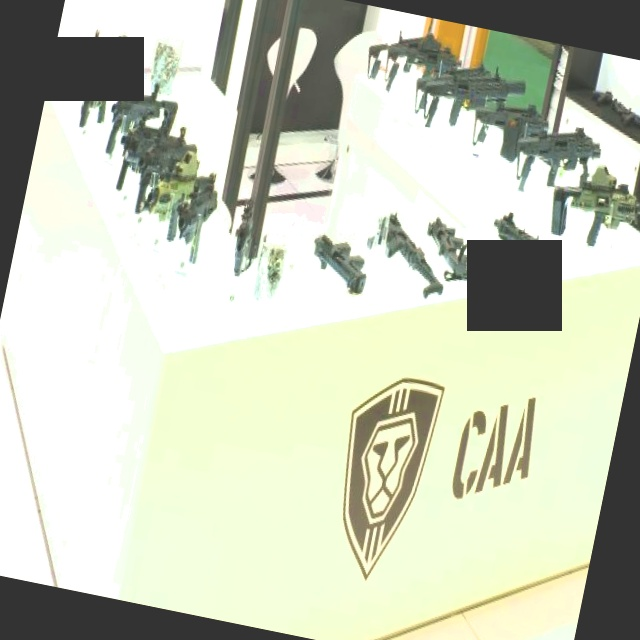gun: (539, 155, 640, 261), (302, 224, 376, 303)
